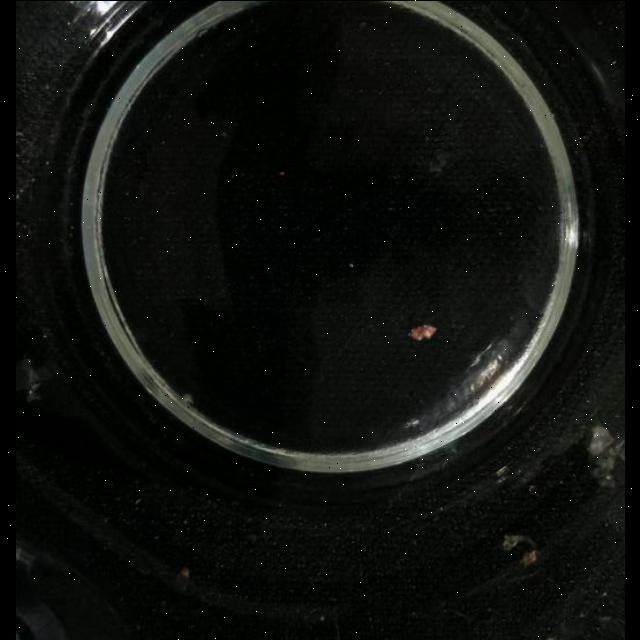Fibre: (180, 392, 194, 404)
Fragment: (587, 432, 625, 492), (520, 549, 538, 565)
microbeads: (408, 321, 446, 345), (348, 261, 354, 267), (319, 615, 325, 621)
